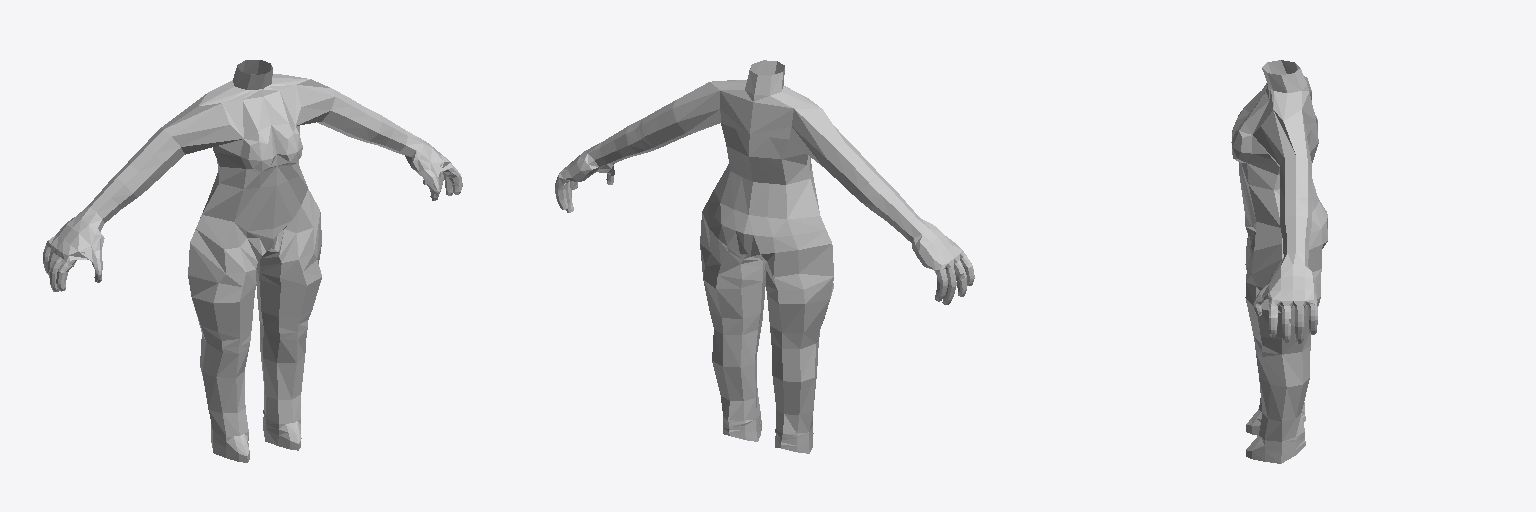
The model's file is BodyModel.obj.
The picture shows the model from 3 angles: view 1: azimuth 30°, elevation 25°; view 2: azimuth 150°, elevation 25°; view 3: azimuth 270°, elevation 25°; orthographic projection.
Parts seen in each view (by area): view 1: Cylinder002; view 2: Cylinder002; view 3: Cylinder002.
Part boxes in pixels (x1,y1,x2,y2): Cylinder002: (43, 60, 462, 462); Cylinder002: (555, 60, 974, 453); Cylinder002: (1231, 60, 1327, 463).
Size of the model in its own units: 481 by 428 by 99.9.